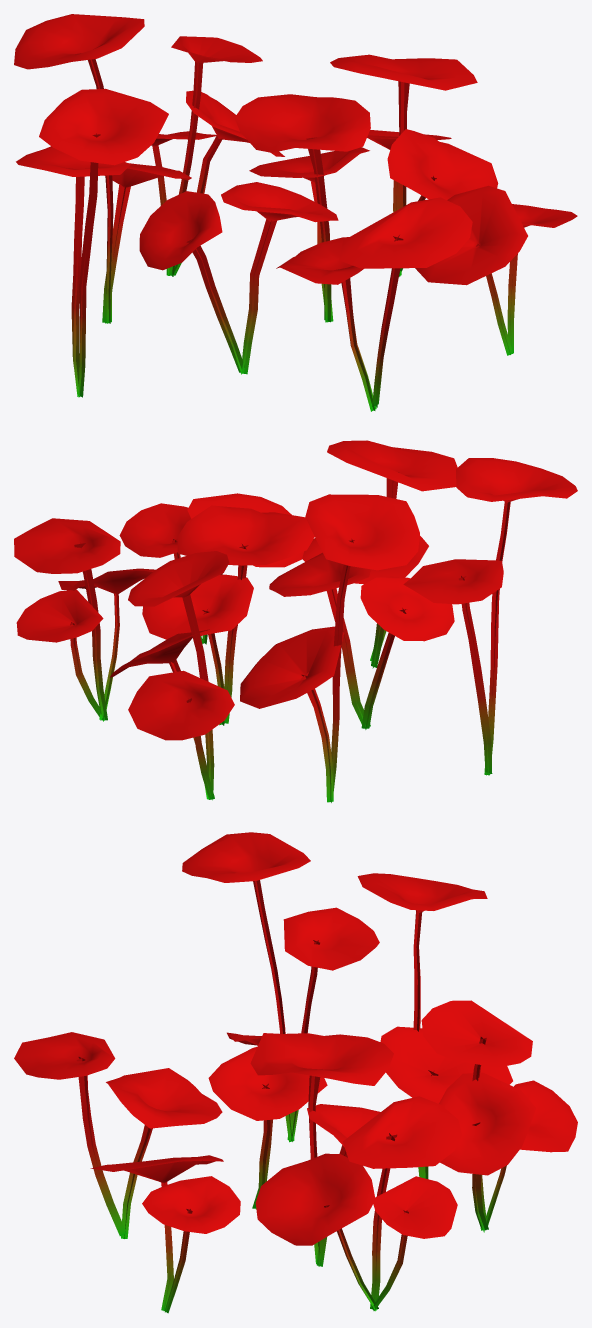
The model's file is Native Violet_LOD2_Var27_ultkcfeja.fbx.
The picture shows the model from 3 angles, top to bottom: view 1: azimuth 30°, elevation 25°; view 2: azimuth 150°, elevation 25°; view 3: azimuth 270°, elevation 25°; orthographic projection. The views are drawn at different scales.
Parts seen in each view (by area): view 1: _kefr_Var27_LOD2; view 2: _kefr_Var27_LOD2; view 3: _kefr_Var27_LOD2.
Boxes of the visible parts, x1,y1,x2,y2 form: _kefr_Var27_LOD2: [14, 14, 577, 411]; _kefr_Var27_LOD2: [14, 440, 577, 802]; _kefr_Var27_LOD2: [14, 832, 577, 1313].
Bounding box in the file's own units: 22.09 × 12.9 × 22.42.
